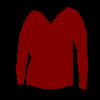felpa: (16, 7, 88, 90)
